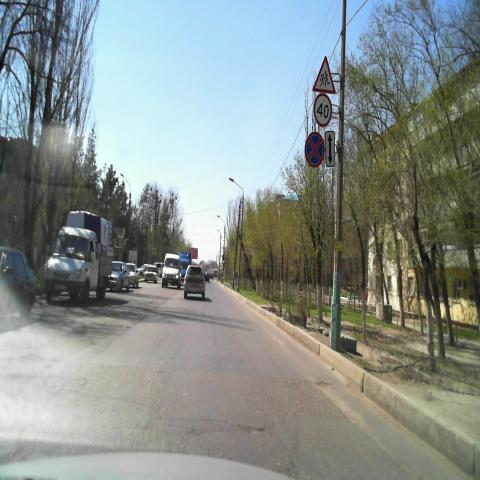8_2_4: (326, 128, 336, 168)
